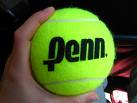tennis ball: (30, 6, 117, 97)
